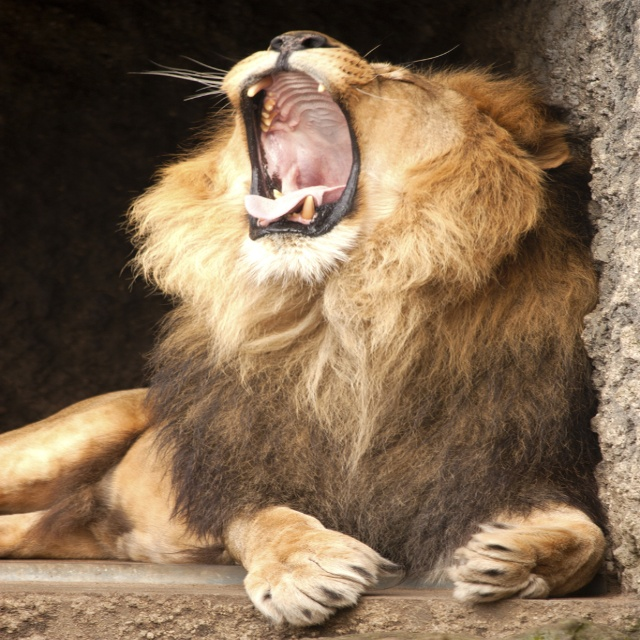Lion: (0, 29, 602, 631)
